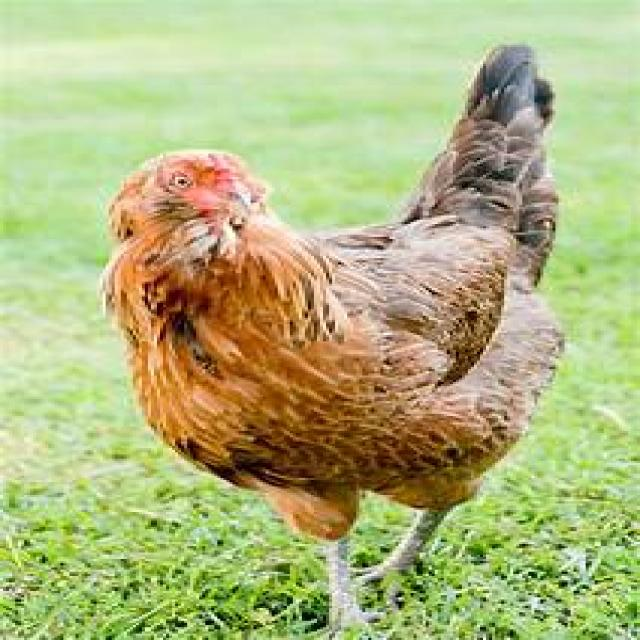hen: (97, 45, 568, 634)
